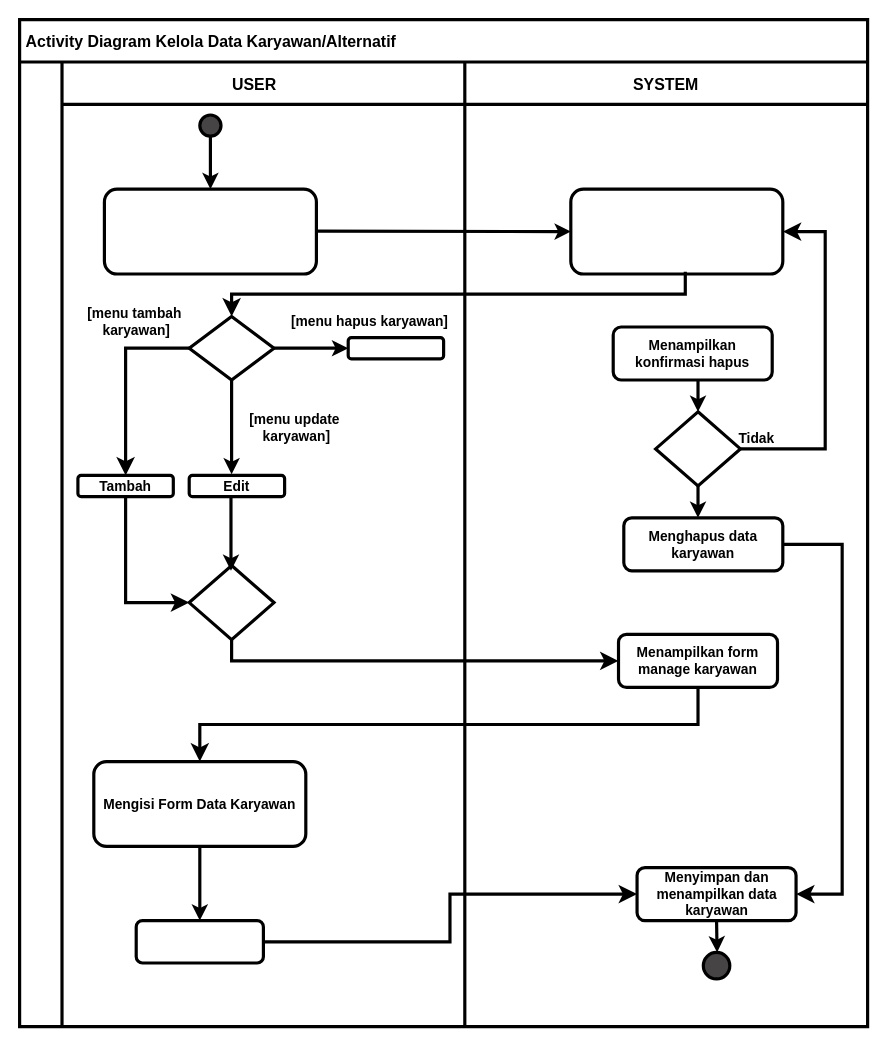
This 887x1046 diagram has some shape labels left out. Here are the shapes that lost their labels. From the top down, the box of each, then its label:
(102, 187, 317, 275): Memilih Menu Karyawan/Alternatif
(569, 187, 784, 275): Menampilkan Data Manage Karyawan/Alternatif
(346, 335, 445, 360): delete
(134, 918, 264, 964): Klik Tombol Simpan
